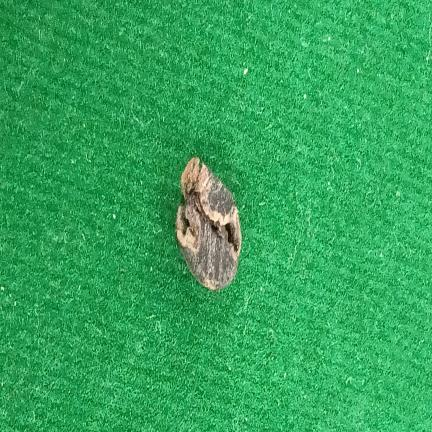partial-black: (175, 157, 241, 290)
